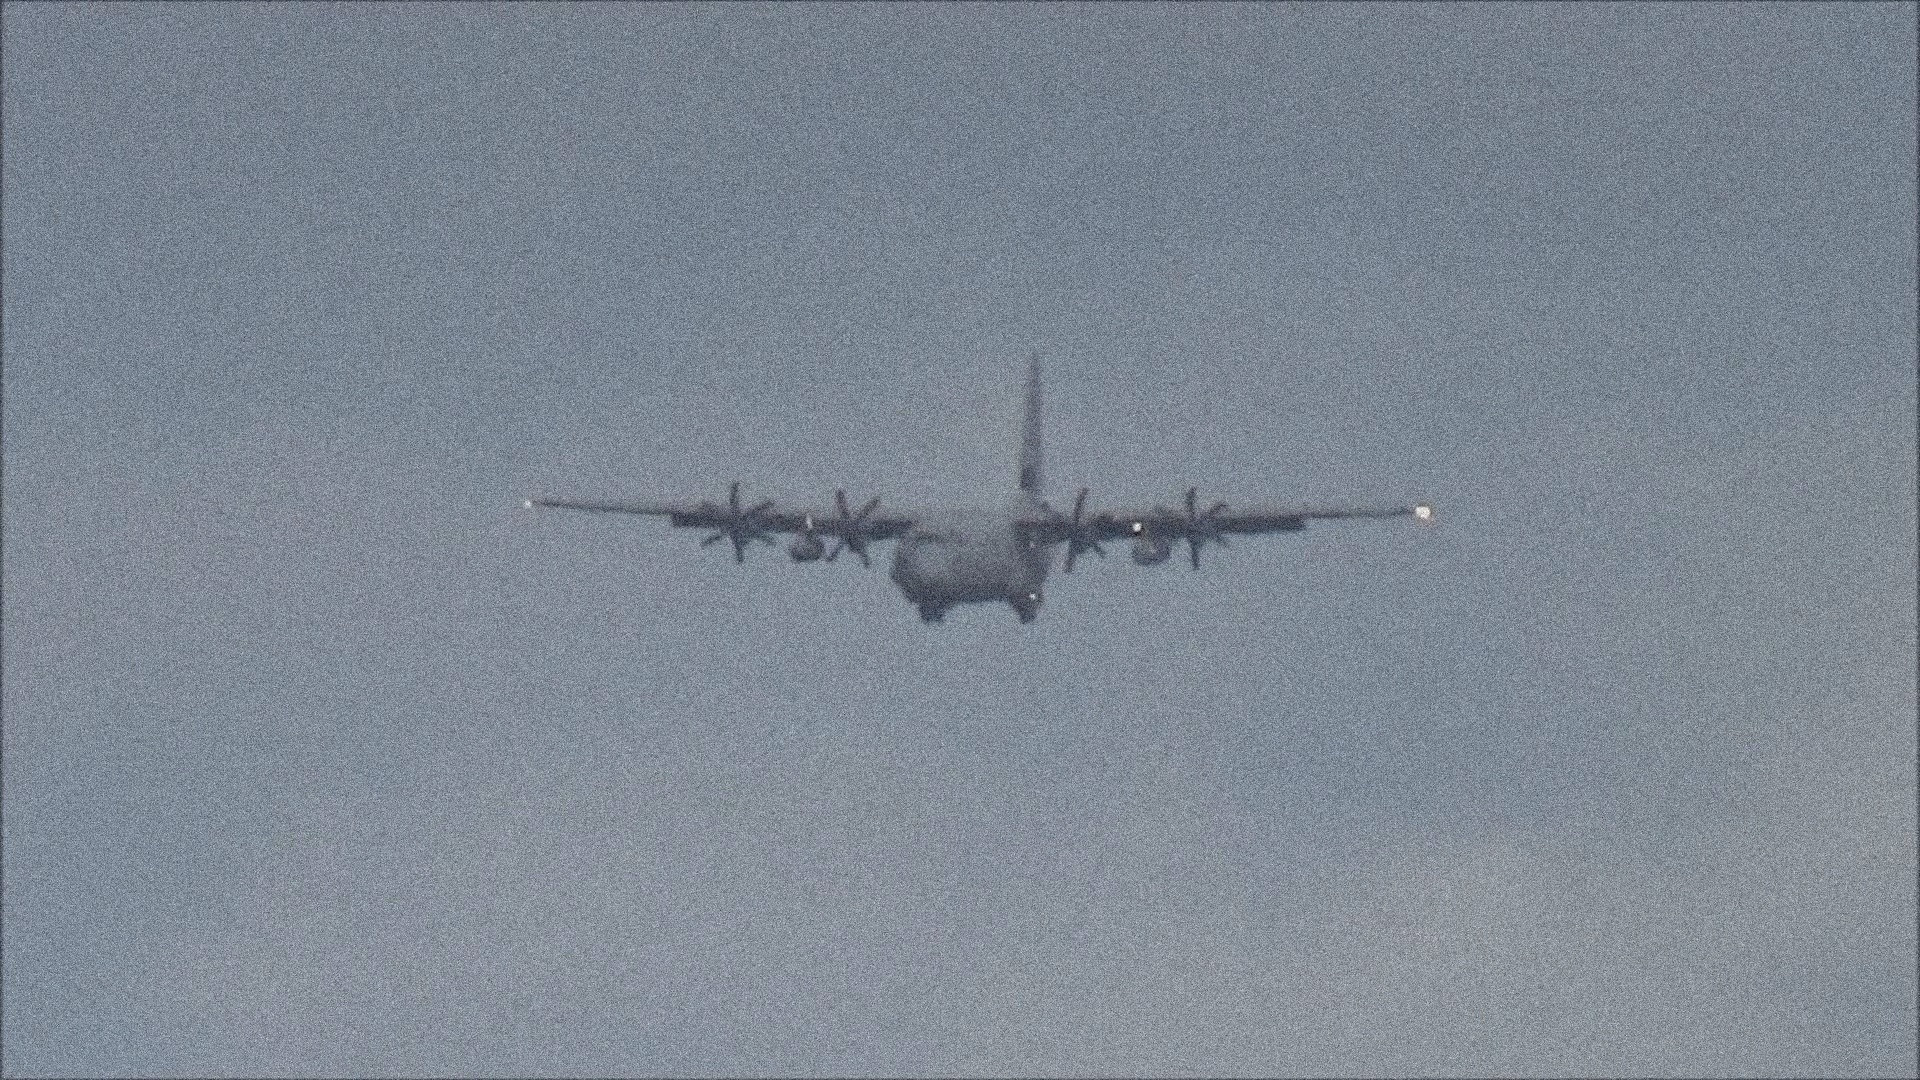Airplane: (529, 355, 1429, 628)
